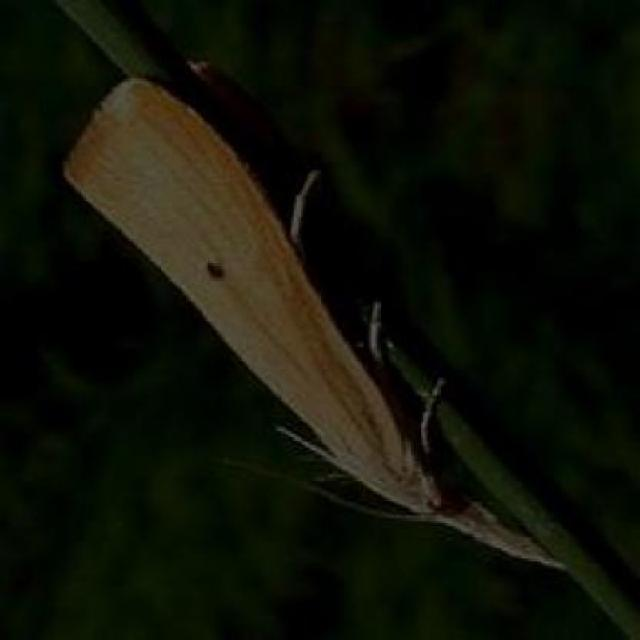stem-borer: (47, 51, 575, 574)
